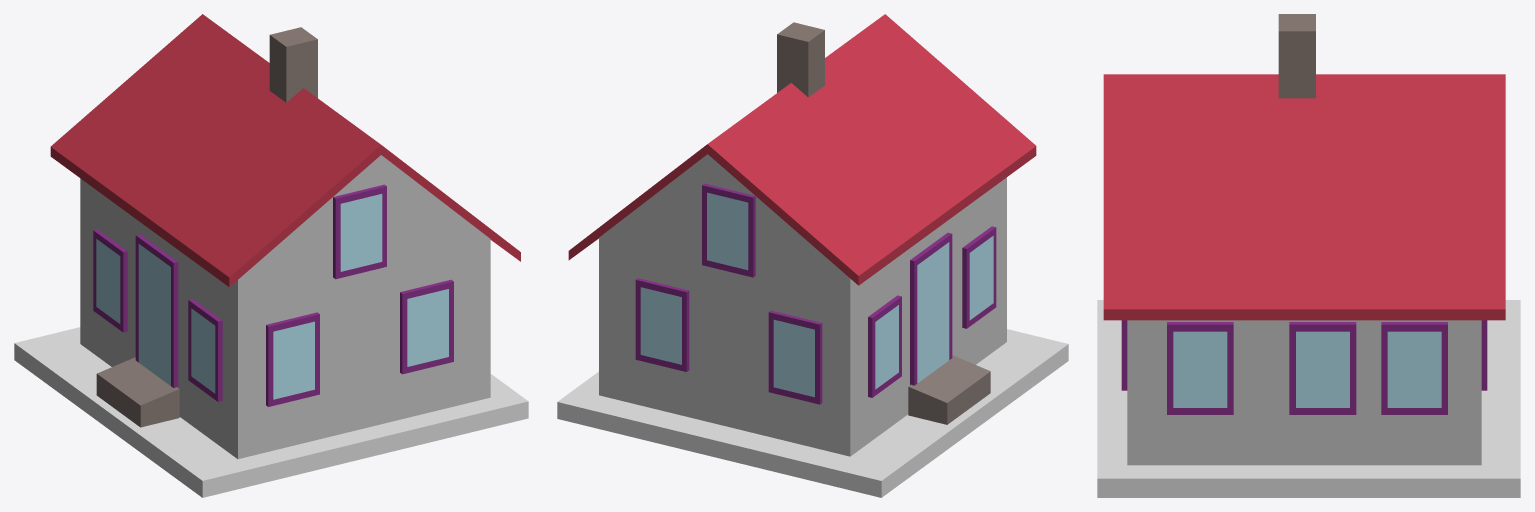
Rendered from Small_House_3.FBX.
3 views of the same model, side by side, from view 1: azimuth 30°, elevation 25°; view 2: azimuth 150°, elevation 25°; view 3: azimuth 270°, elevation 25° (orthographic). The views are drawn at different scales.
Parts seen in each view (by area): view 1: Box004, Box045; view 2: Box004, Box045; view 3: Box004, Box045.
Boxes of the visible parts, x1,y1,x2,y2 form: Box004: (50, 14, 520, 459); Box045: (14, 327, 528, 497); Box004: (568, 14, 1036, 456); Box045: (557, 329, 1068, 497); Box004: (1103, 14, 1505, 465); Box045: (1097, 300, 1520, 497).
Bounding box in the file's own units: 1 × 1.03 × 1.
